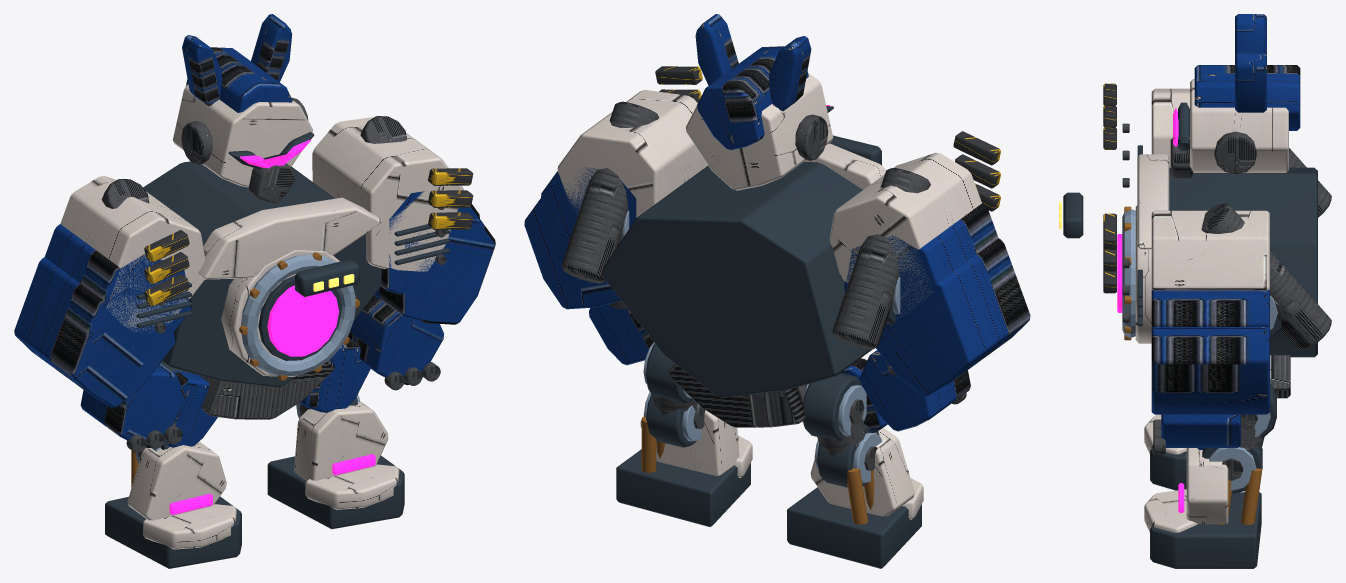
The model's file is sector_01_2.glb.
3 renders of one model, left to right at view 1: azimuth 30°, elevation 25°; view 2: azimuth 150°, elevation 25°; view 3: azimuth 270°, elevation 25°, orthographic. The views are drawn at different scales.
Parts seen in each view (by area): view 1: Navy crown, Upper chest plating, Reinforced heavy torso, Face guard, Greave armor, Greave armor.001, Warning gate, Reactor lens, Reactor concentric ring, Servo housing.001, Servo housing.004, Tapered thigh shield.001 (+1 smaller); view 2: Reinforced heavy torso, Navy crown, Upper chest plating, Face guard, Servo housing.001, Servo housing.004, Greave armor, Greave armor.001, Warning gate, Bearing ring.002, Hub.002, Calf piston (+4 smaller); view 3: Navy crown, Upper chest plating, Reinforced heavy torso, Face guard, Servo housing.004, Greave armor.001, Warning gate, Reactor concentric ring, Servo housing.001, Bearing ring.008, Hub.008, Calf piston.002 (+2 smaller).
Part boxes in pixels (x1,y1,x2,y2): Navy crown: (14, 14, 495, 447); Upper chest plating: (60, 84, 463, 376); Reinforced heavy torso: (136, 132, 449, 387); Face guard: (101, 97, 446, 453); Greave armor: (127, 441, 236, 549); Greave armor.001: (294, 401, 399, 509); Warning gate: (144, 168, 473, 306); Reactor lens: (240, 139, 339, 356); Reactor concentric ring: (241, 254, 355, 376); Servo housing.001: (105, 361, 241, 568); Servo housing.004: (267, 397, 404, 529); Tapered thigh shield.001: (300, 338, 370, 412); Reinforced heavy torso: (602, 106, 895, 397); Navy crown: (524, 14, 1030, 431); Upper chest plating: (557, 72, 981, 317); Face guard: (561, 98, 966, 427); Servo housing.001: (787, 372, 921, 568); Servo housing.004: (616, 343, 750, 526); Greave armor: (810, 427, 923, 519); Greave armor.001: (640, 410, 752, 477); Warning gate: (655, 66, 1000, 211); Bearing ring.002: (802, 384, 881, 483); Hub.002: (817, 399, 877, 470); Calf piston: (847, 468, 874, 524); Navy crown: (1151, 14, 1300, 447); Upper chest plating: (1135, 79, 1288, 343); Reinforced heavy torso: (1063, 102, 1317, 357); Face guard: (1122, 123, 1331, 454); Servo housing.004: (1150, 384, 1276, 568); Greave armor.001: (1144, 448, 1228, 532); Warning gate: (1103, 83, 1116, 293); Reactor concentric ring: (1122, 209, 1277, 337); Servo housing.001: (1150, 448, 1186, 490); Bearing ring.008: (1209, 412, 1270, 490); Hub.008: (1222, 414, 1264, 480); Calf piston.002: (1217, 468, 1262, 524).
Bounding box in the file's own units: 1.52 × 1.64 × 0.8535.
9 materials, 4 textured.
